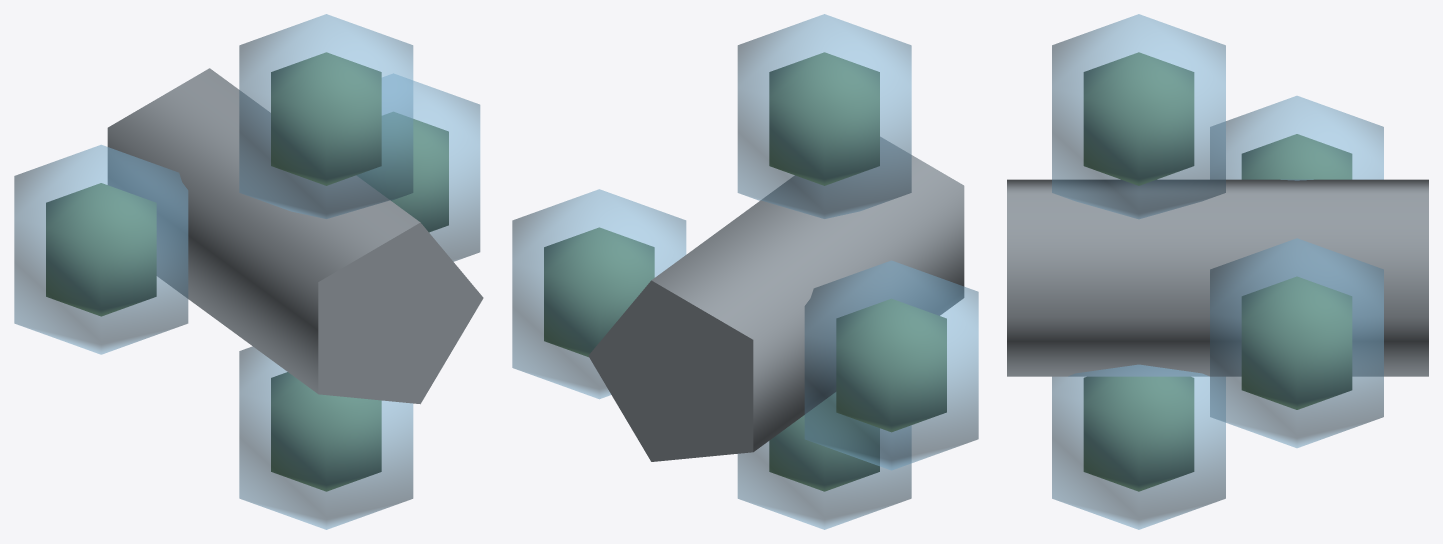
File: space_orbital_hydroponics_t2_lod1.glb
3 renders of one model, left to right at view 1: azimuth 30°, elevation 25°; view 2: azimuth 150°, elevation 25°; view 3: azimuth 270°, elevation 25°, orthographic.
Parts seen in each view (by area): view 1: body; view 2: body; view 3: body.
Part boxes in pixels (left/top/right/bottom): body: left=14, top=14, right=483, bottom=529; body: left=512, top=14, right=978, bottom=529; body: left=1007, top=14, right=1428, bottom=529.
Size of the model in its own units: 10.21 by 10.8 by 8.
